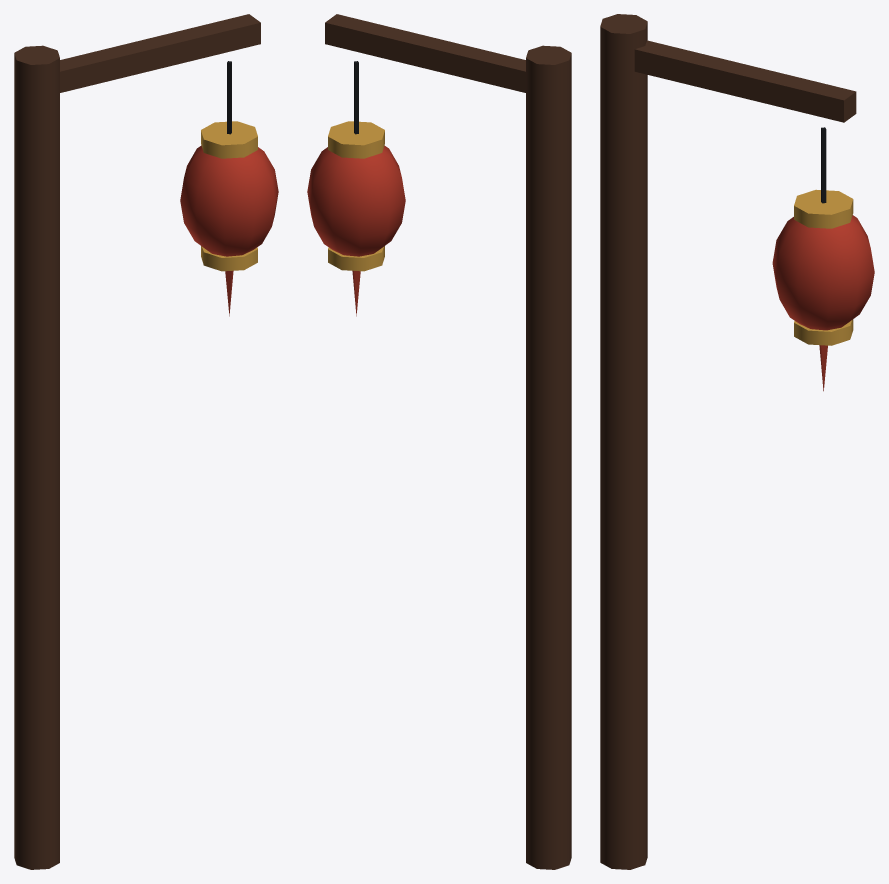
Rendered from lantern_post.glb.
3 renders of one model, left to right at view 1: azimuth 30°, elevation 25°; view 2: azimuth 150°, elevation 25°; view 3: azimuth 330°, elevation 25°, orthographic. The views are drawn at different scales.
Visible parts, largest first — view 1: LanternPost; view 2: LanternPost; view 3: LanternPost.
Part boxes in pixels (x1,y1,x2,y2): LanternPost: [14, 14, 278, 869]; LanternPost: [307, 14, 571, 869]; LanternPost: [600, 14, 874, 869].
Size of what is drawn, in the model's own units: 0.9917 by 3 by 0.34.
